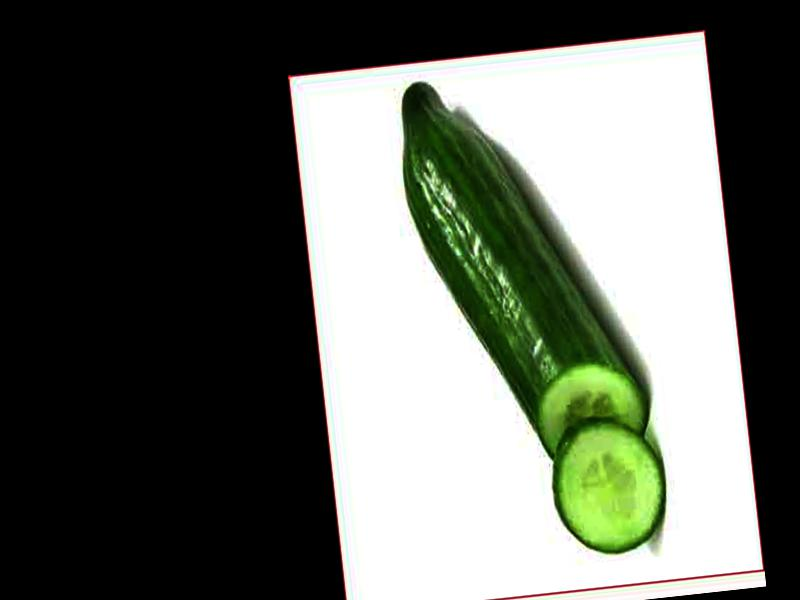Cucumber: (394, 60, 653, 478)
